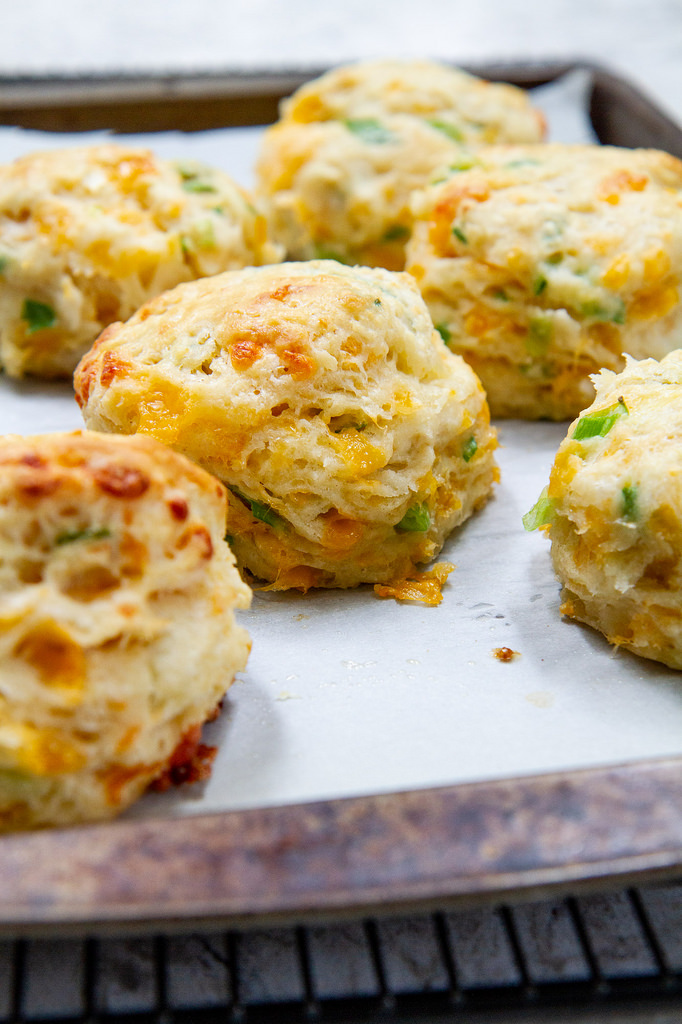meatballs: (71, 266, 513, 609), (1, 427, 247, 832), (410, 143, 682, 415), (539, 338, 682, 690)
